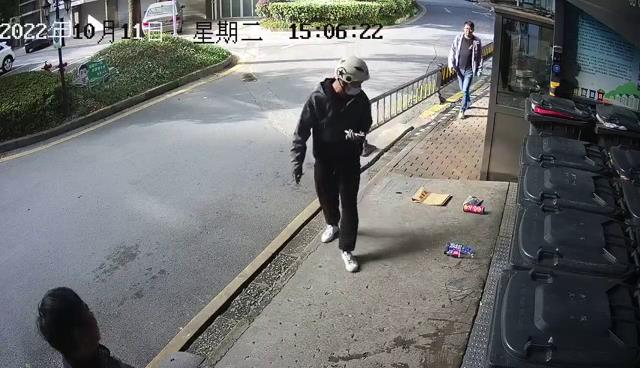lvzhipin: (443, 238, 476, 260), (461, 202, 487, 215)
person: (288, 54, 374, 273), (34, 284, 138, 368), (446, 19, 483, 120)
zhizhipin: (410, 184, 452, 207)
